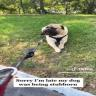dog: (40, 23, 68, 53)
